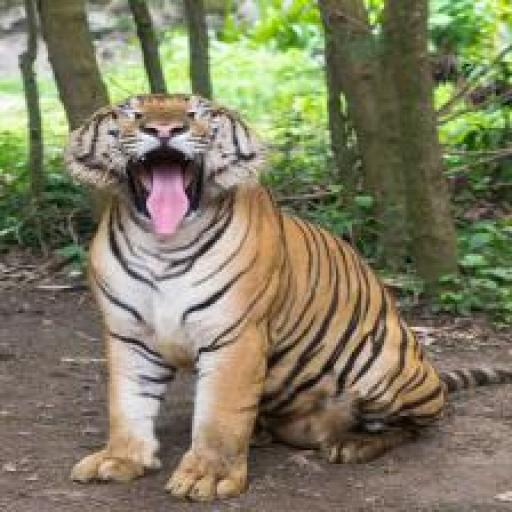Tiger: (27, 85, 511, 504)
